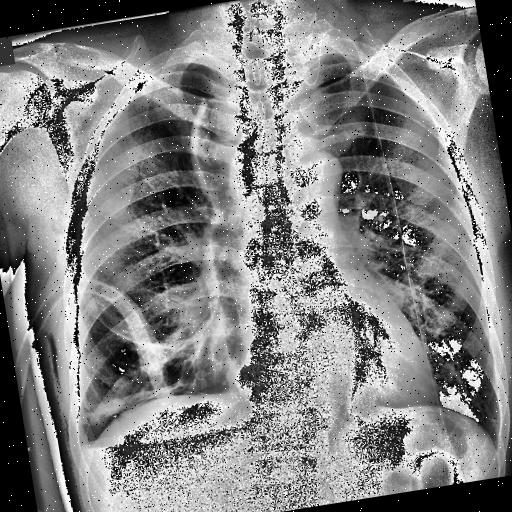10- Pleural effusion: (78, 414, 258, 472), (74, 418, 242, 474), (74, 428, 114, 474)
11- Pleural thickening: (74, 428, 114, 474)
13- Pulmonary fibrosis: (96, 294, 207, 376), (98, 298, 210, 374), (82, 366, 208, 423), (74, 368, 205, 420), (91, 294, 176, 364), (72, 378, 185, 419)
9- Other lesion: (175, 78, 370, 432), (182, 77, 368, 438), (179, 100, 225, 220)
